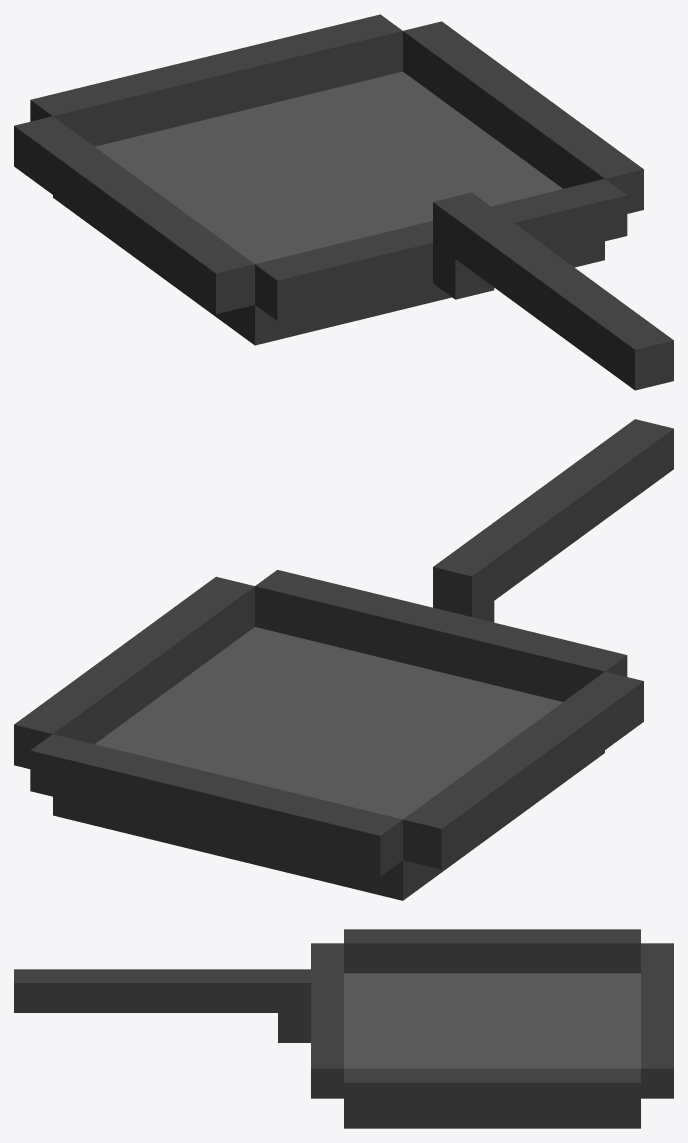
Rendered from tigaie.fbx.
3 views of the same model, one above another, from view 1: azimuth 30°, elevation 25°; view 2: azimuth 150°, elevation 25°; view 3: azimuth 270°, elevation 25° (orthographic). The views are drawn at different scales.
Parts seen in each view (by area): view 1: cube, cube_3, cube_1, cube_5, cube_4, cube_2, cube_6; view 2: cube, cube_3, cube_4, cube_1, cube_5, cube_2; view 3: cube, cube_1, cube_2, cube_5, cube_3, cube_4, cube_6.
Part boxes in pixels (x1,y1,x2,y2): cube: (53,71,604,345); cube_3: (30,14,402,146); cube_1: (14,116,254,314); cube_5: (433,192,673,390); cube_4: (255,179,627,321); cube_2: (403,21,643,213); cube_6: (433,243,494,299); cube: (53,627,604,900); cube_3: (30,734,402,876); cube_4: (255,570,627,701); cube_1: (403,671,643,869); cube_5: (433,419,673,616); cube_2: (14,576,254,768); cube: (344,973,640,1128); cube_1: (344,929,640,973); cube_2: (344,1068,640,1112); cube_5: (14,969,310,1012); cube_3: (641,943,673,1098); cube_4: (311,943,343,1098); cube_6: (278,1013,310,1042).
Size of the model in its own units: 68.75 by 18.75 by 125.
1 material, 1 textured.
